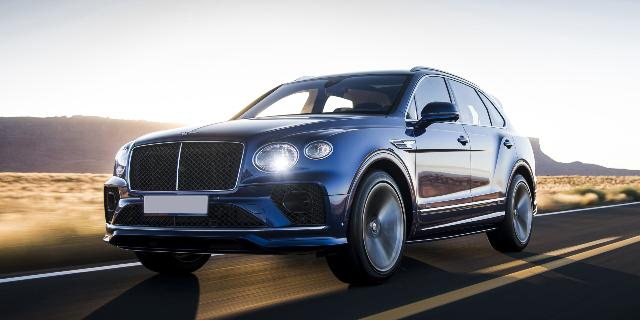bentley: (103, 66, 537, 282)
